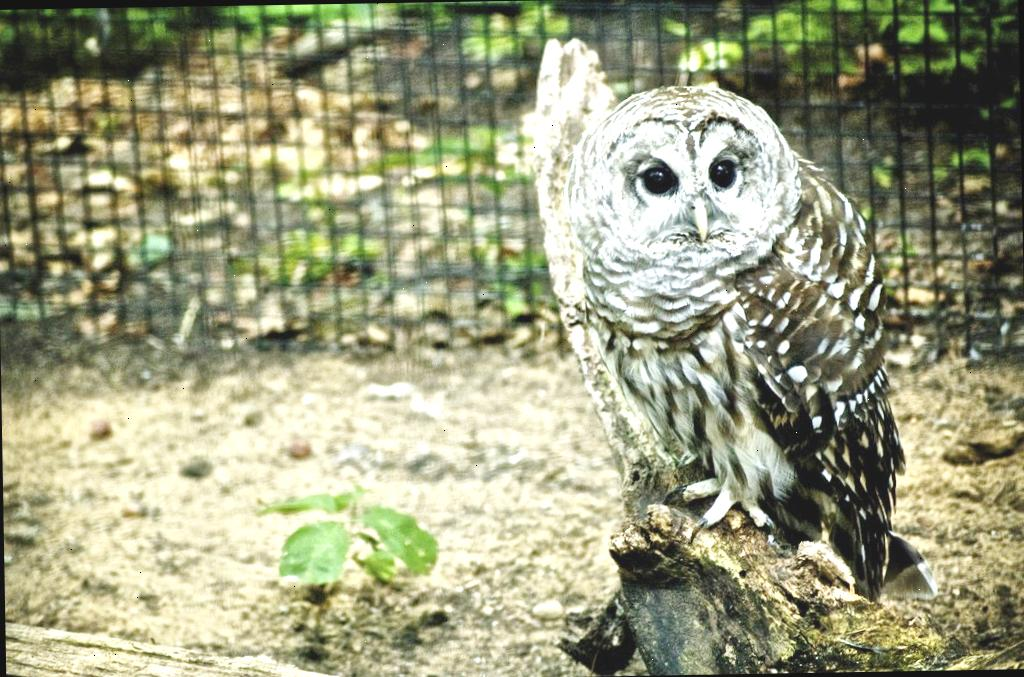Owl: (558, 69, 902, 612)
